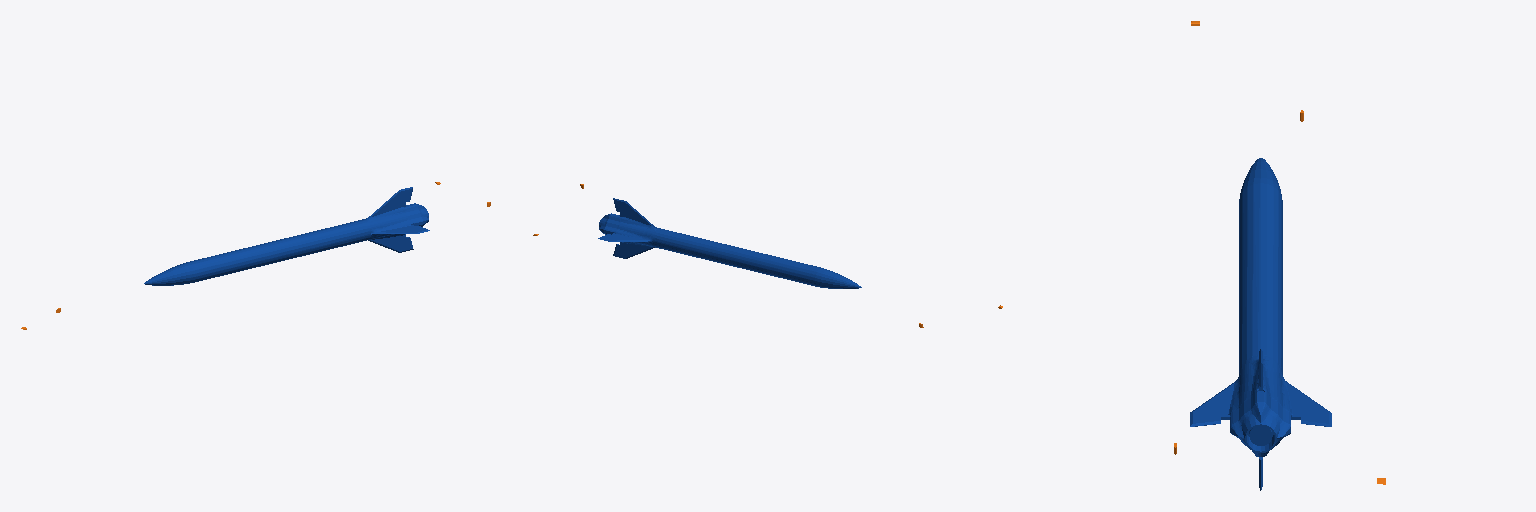
The robot description file, URDF, robot "flying-wing":
<?xml version="1.0" ?>
<robot name="flying-wing">
  <material name="industrial-blue">
    <color rgba="0.11372549019607843 0.34509803921568627 0.6549019607843137 1.0"/>
  </material>
  <material name="arches-blue">
    <color rgba="0.0 0.6235294117647059 0.8313725490196079 1.0"/>
  </material>
  <material name="heritage-orange">
    <color rgba="0.96078431 0.50980392 0.11764706 1.0"/>
  </material>

  <link name="base">
    <visual>
      <geometry>
        <mesh filename="Rocket_Body.stl">
          <scale x="0.1" y="0.1" z="0.1"/>
        </mesh>
      </geometry>
      <material name="industrial-blue"/>
    </visual>
    <collision>
      <geometry>
        <mesh filename="Rocket_Body.stl">
          <scale x="0.1" y="0.1" z="0.1"/>
        </mesh>
      </geometry>
    </collision>
    <inertial>
      <origin rpy="0.0 0.0 0.0" xyz="0.0 0.0 0.0"/>
      <mass value="1.56"/>
      <inertia ixx="0.1147" ixy="0.0" ixz="0.0015" iyy="0.0576" iyz="0.0" izz="0.1712"/>
    </inertial>
  </link>

  <!-- First Aileron (e.g., right, +Y) -->
  <link name="aileron1">
    <visual>
      <origin xyz="0 0 0" rpy="0 0 0"/>
      <geometry>
        <mesh filename="aileron1.stl"/>
      </geometry>
      <material name="heritage-orange"/>
    </visual>
    <collision>
      <origin xyz="0 0 0" rpy="0 0 0"/>
      <geometry>
        <mesh filename="aileron1.stl"/>
      </geometry>
    </collision>
    <inertial>
      <origin xyz="0 0 0" rpy="0 0 0"/>
      <mass value="0.05"/>
      <inertia ixx="0.0001" ixy="0.0" ixz="0.0" iyy="0.0001" iyz="0.0" izz="0.0001"/>
    </inertial>
  </link>
  <joint name="aileron1_joint" type="revolute">
    <parent link="base"/>
    <child link="aileron1"/>
    <origin xyz="0.5 0.3 0.0" rpy="0 0 0"/>
    <axis xyz="0 1 0"/>
    <limit lower="-0.5" upper="0.5" effort="1" velocity="1"/>
  </joint>

  <!-- Second Aileron (e.g., left, -Y) -->
  <link name="aileron2">
    <visual>
      <origin xyz="0 0 0" rpy="0 0 3.1416"/>
      <geometry>
        <mesh filename="aileron2.stl"/>
      </geometry>
      <material name="heritage-orange"/>
    </visual>
    <collision>
      <origin xyz="0 0 0" rpy="0 0 3.1416"/>
      <geometry>
        <mesh filename="aileron2.stl"/>
      </geometry>
    </collision>
    <inertial>
      <origin xyz="0 0 0" rpy="0 0 0"/>
      <mass value="0.05"/>
      <inertia ixx="0.0001" ixy="0.0" ixz="0.0" iyy="0.0001" iyz="0.0" izz="0.0001"/>
    </inertial>
  </link>
  <joint name="aileron2_joint" type="revolute">
    <parent link="base"/>
    <child link="aileron2"/>
    <origin xyz="0.5 -0.3 0.0" rpy="0 0 3.1416"/>
    <axis xyz="0 1 0"/>
    <limit lower="-0.5" upper="0.5" effort="1" velocity="1"/>
  </joint>

  <!-- Third Aileron (e.g., top, -X) -->
  <link name="aileron3">
    <visual>
      <origin xyz="0 0 0" rpy="0 0 1.5708"/>
      <geometry>
        <mesh filename="aileron3.stl"/>
      </geometry>
      <material name="heritage-orange"/>
    </visual>
    <collision>
      <origin xyz="0 0 0" rpy="0 0 1.5708"/>
      <geometry>
        <mesh filename="aileron3.stl"/>
      </geometry>
    </collision>
    <inertial>
      <origin xyz="0 0 0" rpy="0 0 0"/>
      <mass value="0.05"/>
      <inertia ixx="0.0001" ixy="0.0" ixz="0.0" iyy="0.0001" iyz="0.0" izz="0.0001"/>
    </inertial>
  </link>
  <joint name="aileron3_joint" type="revolute">
    <parent link="base"/>
    <child link="aileron3"/>
    <origin xyz="-0.5 0.0 0.0" rpy="0 0 1.5708"/>
    <axis xyz="0 1 0"/>
    <limit lower="-0.5" upper="0.5" effort="1" velocity="1"/>
  </joint>

  <!-- Fourth Aileron (e.g., bottom, +X) -->
  <link name="aileron4">
    <visual>
      <origin xyz="0 0 0" rpy="0 0 -1.5708"/>
      <geometry>
        <mesh filename="aileron4.stl"/>
      </geometry>
      <material name="heritage-orange"/>
    </visual>
    <collision>
      <origin xyz="0 0 0" rpy="0 0 -1.5708"/>
      <geometry>
        <mesh filename="aileron4.stl"/>
      </geometry>
    </collision>
    <inertial>
      <origin xyz="0 0 0" rpy="0 0 0"/>
      <mass value="0.05"/>
      <inertia ixx="0.0001" ixy="0.0" ixz="0.0" iyy="0.0001" iyz="0.0" izz="0.0001"/>
    </inertial>
  </link>
  <joint name="aileron4_joint" type="revolute">
    <parent link="base"/>
    <child link="aileron4"/>
    <origin xyz="0.0 0.5 0.0" rpy="0 0 -1.5708"/>
    <axis xyz="0 1 0"/>
    <limit lower="-0.5" upper="0.5" effort="1" velocity="1"/>
  </joint>
</robot>

--- What the picture shows (computed from the rendered views, not written in the file) ---
The picture shows the robot from 3 angles, left to right: view 1: azimuth 30°, elevation 25°; view 2: azimuth 150°, elevation 25°; view 3: azimuth 270°, elevation 25°; orthographic projection.
Robot: flying-wing — 5 links, 4 joints (4 revolute); root link base; default pose: all joints at 0.
Links seen in each view (by area): view 1: base; view 2: base; view 3: base.
Link boxes in pixels (x1,y1,x2,y2): base: (144, 187, 429, 285); base: (598, 198, 861, 288); base: (1190, 158, 1331, 490).
Size in the robot's own frame: 3.85 by 0.7468 by 0.4995 metres.
5 mesh visuals loaded from 5 distinct referenced files (5 binary STL).